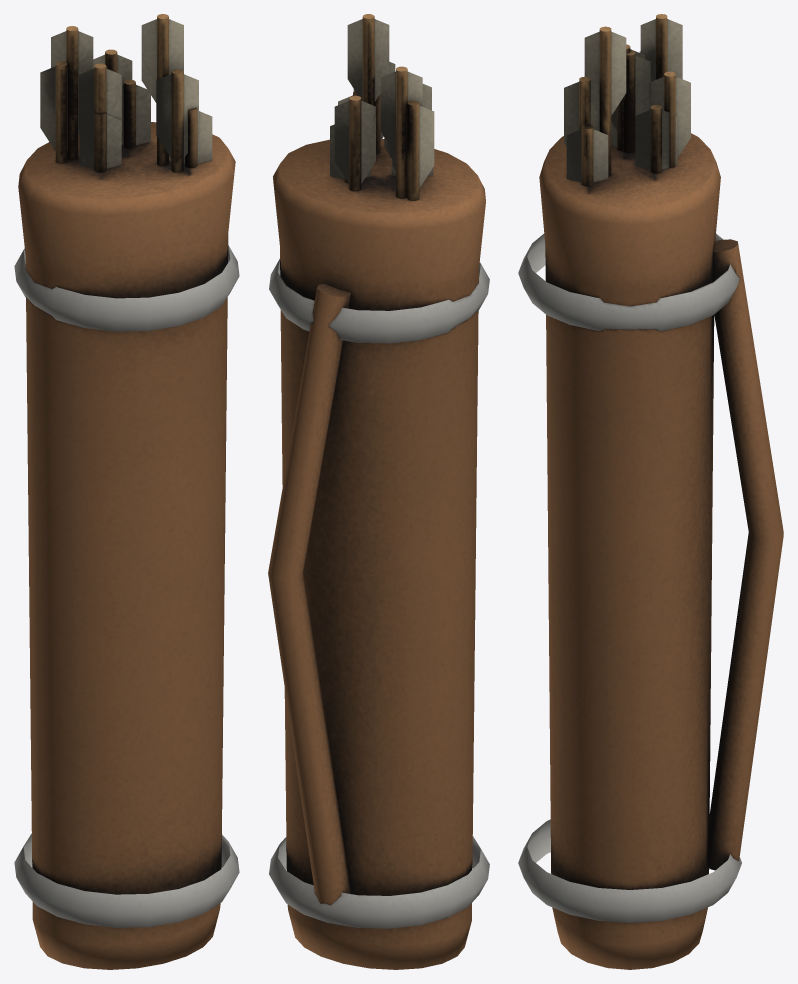
File: arma_aljava_comum.glb
3 views of the same model, side by side, from view 1: azimuth 30°, elevation 25°; view 2: azimuth 150°, elevation 25°; view 3: azimuth 270°, elevation 25° (orthographic).
Parts seen in each view (by area): view 1: arma_aljava_comum; view 2: arma_aljava_comum; view 3: arma_aljava_comum.
Part boxes in pixels (box(x1,y1,x2,y2)): arma_aljava_comum: box(14, 14, 239, 969); arma_aljava_comum: box(268, 14, 489, 969); arma_aljava_comum: box(518, 14, 783, 969).
Size of the model in its own units: 0.15 by 0.6662 by 0.1756.
Materials: 1 (1 with a texture image).
